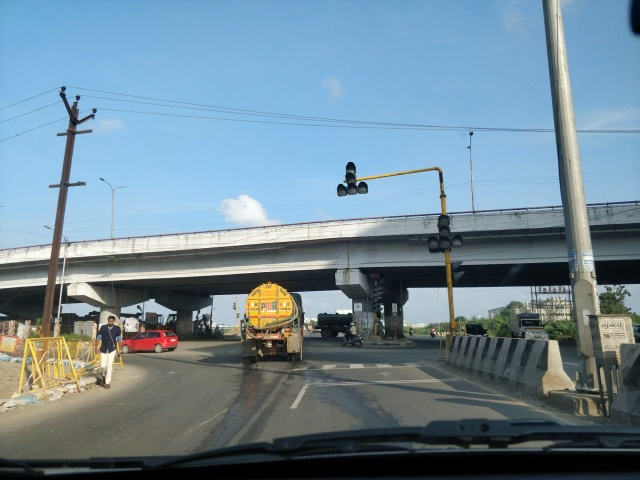car: (114, 328, 183, 354), (458, 321, 492, 350)
motorbike: (340, 320, 369, 353), (428, 325, 441, 340), (406, 325, 418, 338)
person: (93, 312, 130, 390)
truck: (238, 281, 311, 363), (504, 311, 548, 348), (317, 311, 370, 340)
